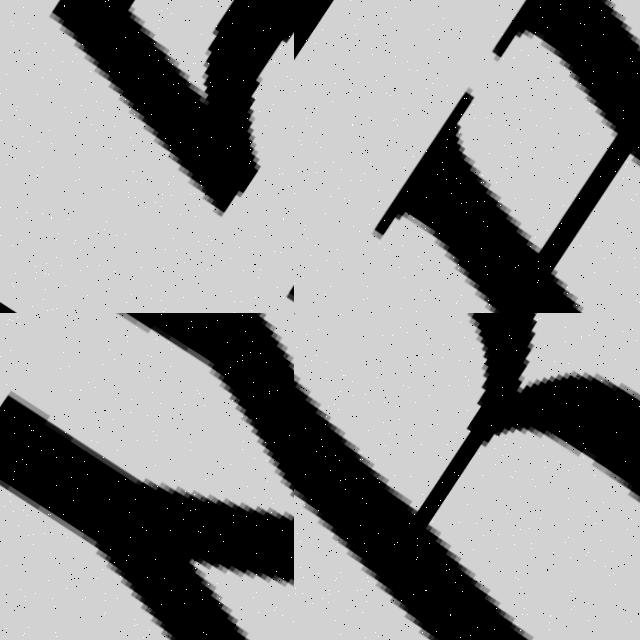5: (0, 0, 294, 313)
H: (370, 0, 640, 313)
R: (294, 313, 640, 640)
W: (0, 313, 294, 640)
